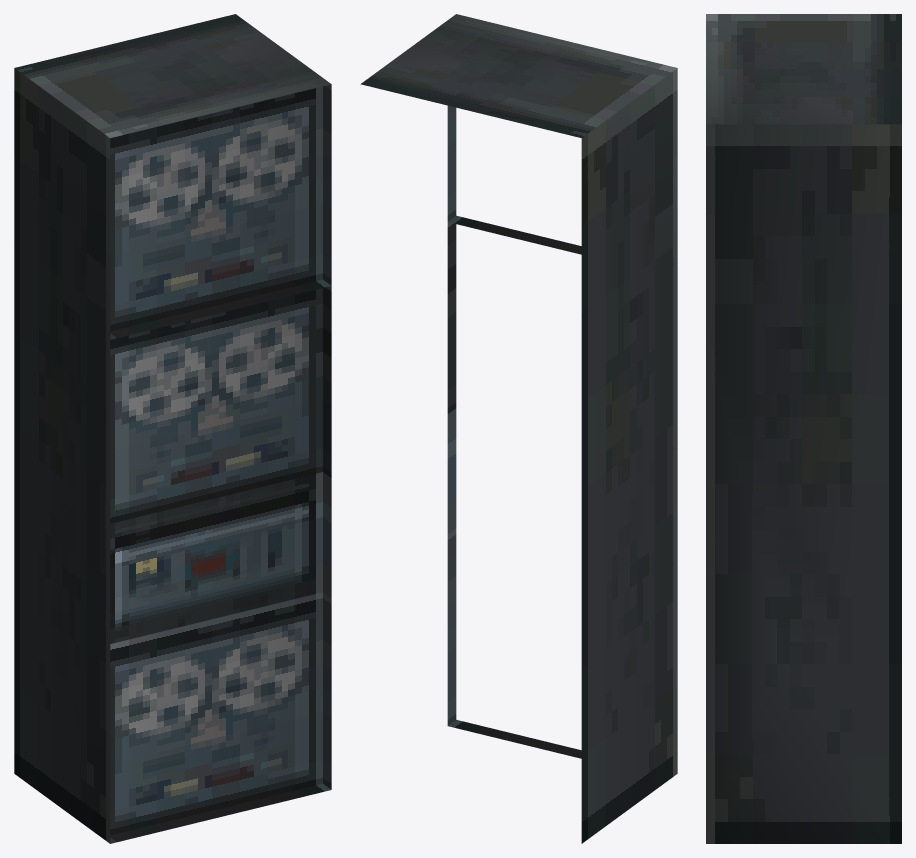
Rendered from TapeDrive_01.glb.
3 views of the same model, side by side, from view 1: azimuth 30°, elevation 25°; view 2: azimuth 150°, elevation 25°; view 3: azimuth 270°, elevation 25° (orthographic).
Visible parts, largest first — view 1: TAPEDRIVE_01; view 2: TAPEDRIVE_01; view 3: TAPEDRIVE_01.
Boxes of the visible parts, x1,y1,x2,y2 form: TAPEDRIVE_01: [14, 14, 331, 843]; TAPEDRIVE_01: [360, 14, 677, 843]; TAPEDRIVE_01: [706, 14, 901, 843].
Size of the model in its own units: 0.586 by 1.78 by 0.44.
Materials: 1 (1 with a texture image).
